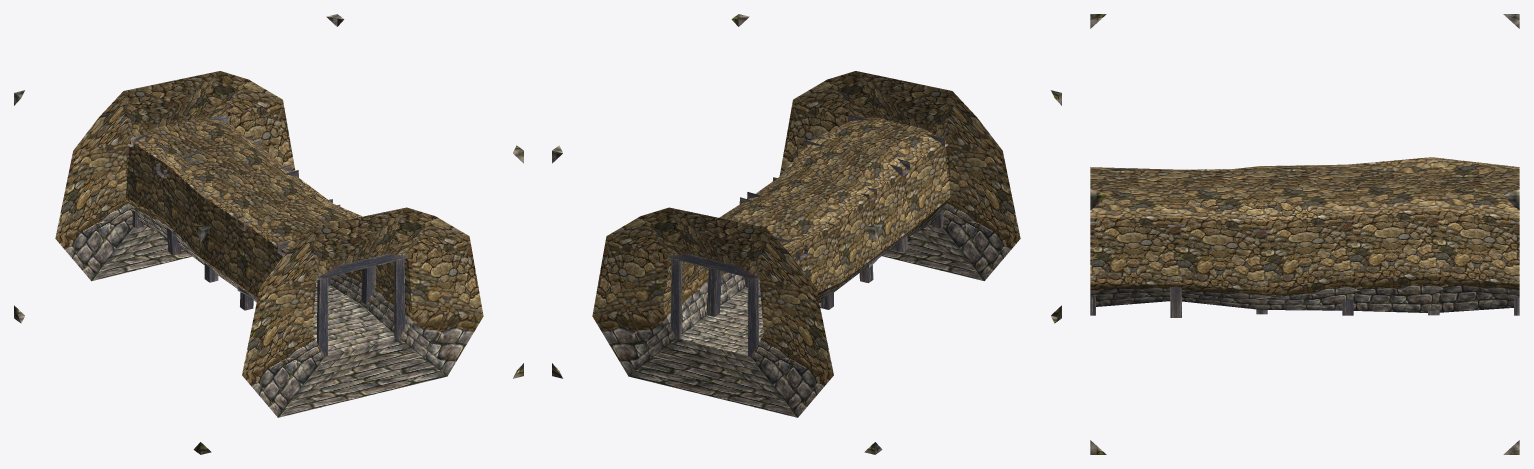
Rendered from Lbm_2g.glb.
3 views of the same model, side by side, from view 1: azimuth 30°, elevation 25°; view 2: azimuth 150°, elevation 25°; view 3: azimuth 270°, elevation 25° (orthographic). The views are drawn at different scales.
Visible parts, largest first — view 1: Lbm_2g-col; view 2: Lbm_2g-col; view 3: Lbm_2g-col.
Boxes of the visible parts, <box> form: Lbm_2g-col: <box>14,14,523,454</box>; Lbm_2g-col: <box>552,14,1061,454</box>; Lbm_2g-col: <box>1090,14,1519,454</box>.
Size of the model in its own units: 15 by 10 by 15.
Materials: 5 (5 with a texture image).
